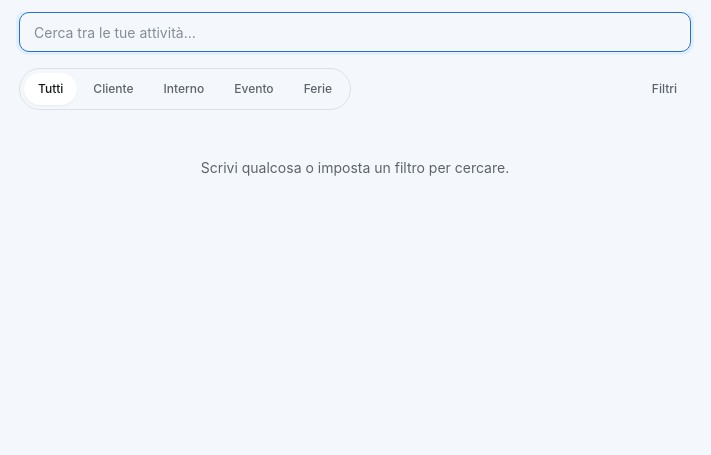
Scenario: SearchView › filtra per cliente senza testo
This screenshot has width=711, height=455.
Click the button "Filtri": point(664, 89) [638, 73, 691, 105]
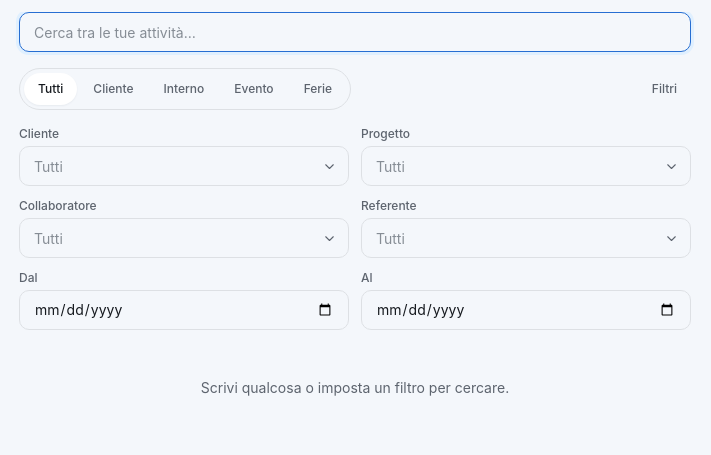
Focus the dropdown named "Cliente": point(184, 166) [19, 146, 349, 186]
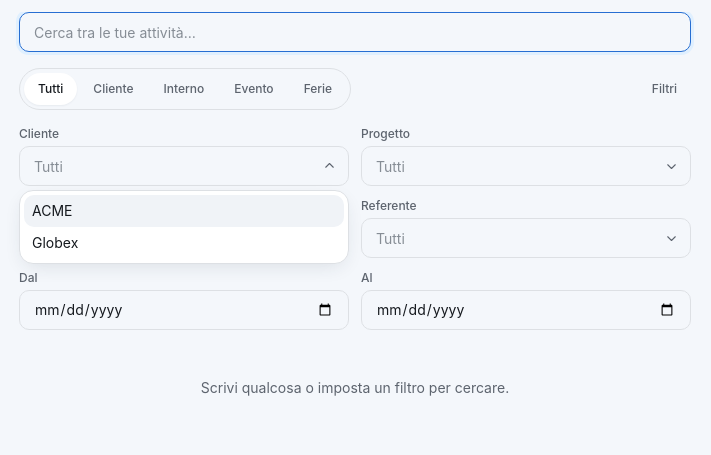
Press the mouse on the option "ACME": point(52, 210) [24, 195, 344, 227]
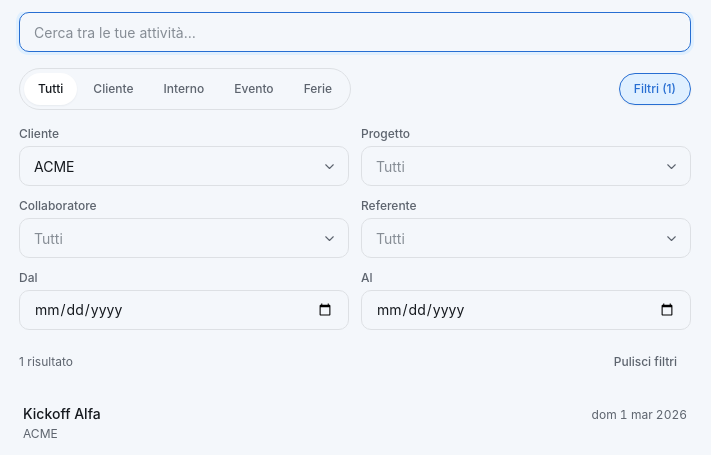
Check: the text "Kickoff Alfa" is shown, box [23, 404, 101, 424]
